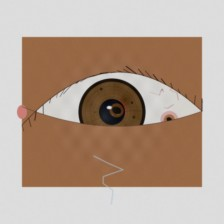foreign_body_visible: (93, 92, 140, 129)
